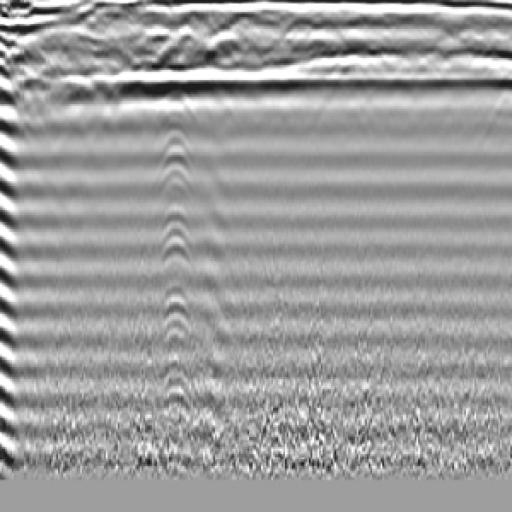non-metallic: (129, 69, 223, 450), (1, 25, 31, 457)
